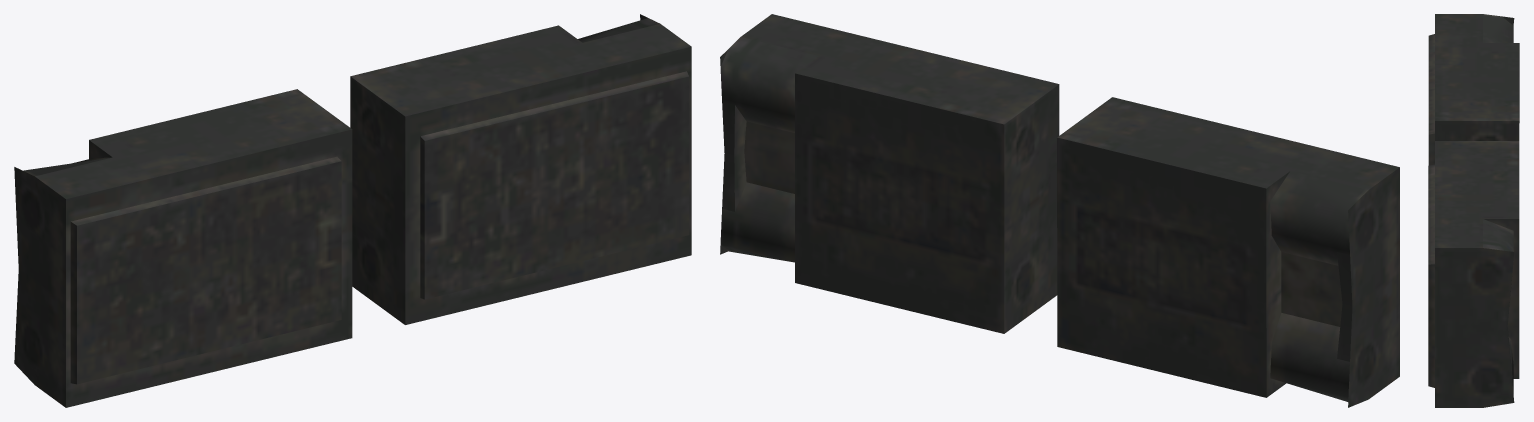
The picture shows the model from 3 angles, left to right: view 1: azimuth 30°, elevation 25°; view 2: azimuth 150°, elevation 25°; view 3: azimuth 270°, elevation 25°; orthographic projection. The views are drawn at different scales.
Parts seen in each view (by area): view 1: set_0_group_0; view 2: set_0_group_0; view 3: set_0_group_0.
Part boxes in pixels (bbox=[...]): set_0_group_0: bbox=[14, 14, 691, 407]; set_0_group_0: bbox=[720, 14, 1399, 407]; set_0_group_0: bbox=[1428, 14, 1519, 407].
Bounding box in the file's own units: 0.4643 × 0.148 × 0.0763.
Materials: 1 (1 with a texture image).
